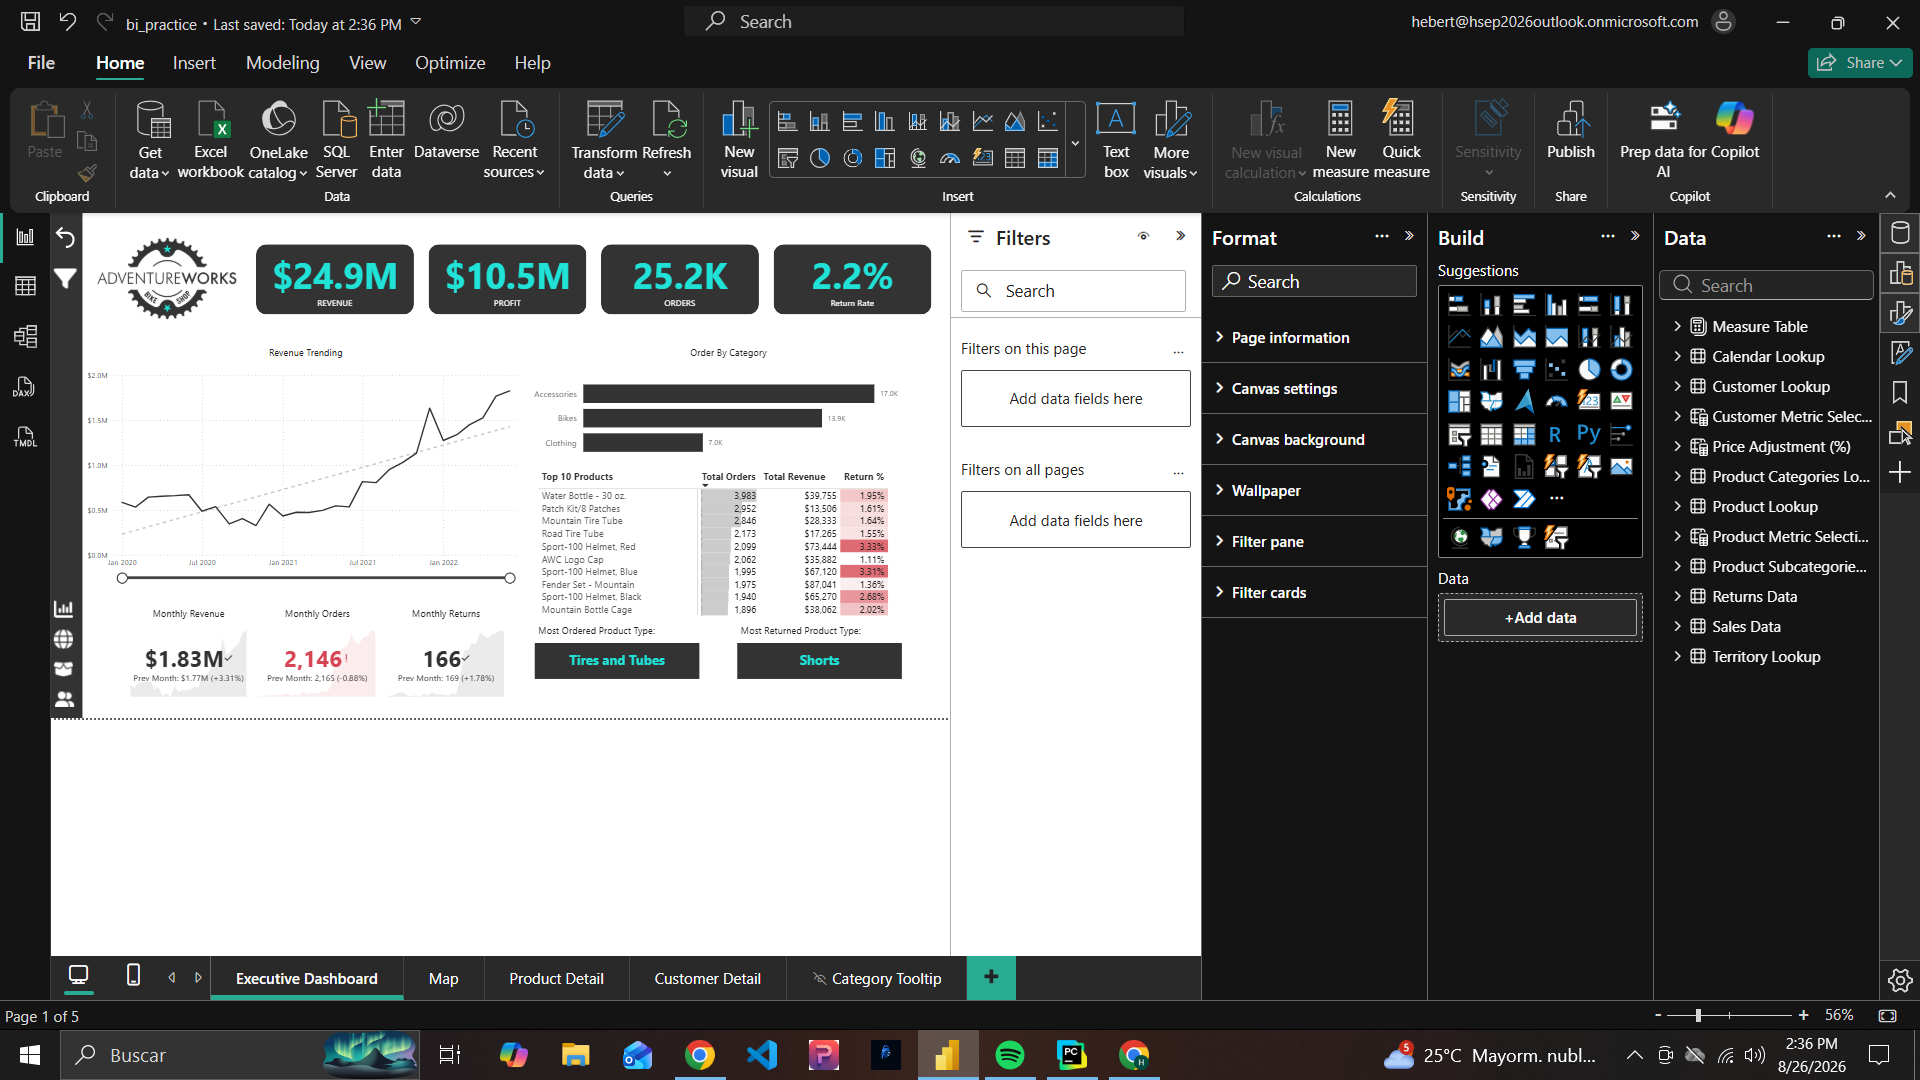

The page's visual inventory and layout, read from the dashboard file:
{"tool":"powerbi","page":{"name":"Executive Dashboard","canvas":[1280,720],"ordinal":0},"visuals":[{"type":"card","fields":{"Values":["Measure Table.Total Revenue"]},"box":[282.5,18.8,243,150],"z":0,"group":"g2"},{"type":"image","title":"AW Logo","box":[45,21.2,242.5,143.8],"z":0},{"type":"group","id":"g1","title":"KPI Background","box":[291.3,43.8,961.2,100],"z":0,"group":"g3"},{"type":"shape","box":[291.3,43.8,225,100],"z":0,"group":"g1"},{"type":"actionButton","box":[0,588.9,44.5,35.6],"z":0,"group":"g4"},{"type":"shape","title":"Left Nav Background","box":[0,0,45,720],"z":1000},{"type":"group","id":"g2","title":"KPI Values","box":[282.5,18.8,979.2,150],"z":1000,"group":"g3"},{"type":"card","fields":{"Values":["Measure Table.Total Profit"]},"box":[527.9,18.8,243,150],"z":1000,"group":"g2"},{"type":"shape","box":[536.7,43.8,225,100],"z":1000,"group":"g1"},{"type":"actionButton","box":[0,546,44.5,35.6],"z":1000,"group":"g4"},{"type":"group","id":"g3","title":"KPIs","box":[282.5,18.8,979.2,150],"z":2000},{"type":"card","fields":{"Values":["Measure Table.Total Orders"]},"box":[773.3,18.8,243,150],"z":2000,"group":"g2"},{"type":"shape","box":[782.1,43.8,225,100],"z":2000,"group":"g1"},{"type":"actionButton","box":[0,631.9,44.5,35.6],"z":2000,"group":"g4"},{"type":"card","fields":{"Values":["Measure Table.Return Rate"]},"box":[1018.7,18.8,243,150],"z":3000,"group":"g2"},{"type":"shape","box":[1027.5,43.8,225,100],"z":3000,"group":"g1"},{"type":"lineChart","title":"Revenue Trending","fields":{"Category":["Calendar Lookup.Year","Calendar Lookup.Start of Quarter","Calendar Lookup.Start of Month"],"Y":["Measure Table.Total Revenue"]},"box":[45.5,189.2,633,342],"z":3000},{"type":"actionButton","box":[1.4,674.8,41.7,35.6],"z":3000,"group":"g4"},{"type":"kpi","title":"Monthly Revenue","fields":{"Goal":["Measure Table.Previous Month Revenue"],"Indicator":["Measure Table.Total Revenue"],"TrendLine":["Calendar Lookup.Start of Month"]},"box":[108.1,560.4,175,133],"z":4000},{"type":"kpi","title":"Monthly Orders","fields":{"Goal":["Measure Table.Previous Month Orders"],"Indicator":["Measure Table.Total Orders"],"TrendLine":["Calendar Lookup.Start of Month"]},"box":[291.6,560.4,175,133],"z":5000},{"type":"kpi","title":"Monthly Returns","fields":{"Goal":["Measure Table.Previous Month Returns"],"Indicator":["Measure Table.Total Returns"],"TrendLine":["Calendar Lookup.Start of Month"]},"box":[475,560.4,175,133],"z":6000},{"type":"clusteredBarChart","title":"Order By Category","fields":{"Category":["Product Categories Lookup.CategoryName"],"Y":["Measure Table.Total Orders"]},"box":[678.5,189,573,171.8],"z":7000},{"type":"pivotTable","fields":{"Rows":["Product Lookup.ProductName"],"Values":["Measure Table.Total Orders","Measure Table.Total Revenue","Measure Table.Return Rate"]},"box":[688.3,360.7,591.4,230.7],"z":8000},{"type":"card","fields":{"Values":["Min(Product Subcategories Lookup.SubcategoryName)"]},"box":[688.4,611.6,234.7,51.2],"z":9000},{"type":"textbox","box":[688.4,580.3,184.9,31.3],"z":10000},{"type":"card","fields":{"Values":["Min(Product Subcategories Lookup.SubcategoryName)"]},"box":[977.1,611.6,234.7,51.2],"z":11000},{"type":"textbox","box":[977.1,580.3,184.9,31.3],"z":12000},{"type":"actionButton","box":[0,13.5,45.4,40.5],"z":13000},{"type":"group","id":"g4","title":"Navigation Buttons","box":[0,546,44.5,164.4],"z":14000},{"type":"actionButton","box":[0,72.4,42.9,40.5],"z":15000}]}

Visuals, with their boxes on the page's 1280x720 design canvas (x1, y1, x2, y2). These are canvas units, not pixel positions in the 1920x1080 screenshot, which may show the page scaled, cropped or inside an application window:
card - Measure Table.Total Revenue: 282:19:526:169
"AW Logo" image: 45:21:288:165
"KPI Background" group: 291:44:1252:144
shape: 291:44:516:144
actionButton: 0:589:44:624
"Left Nav Background" shape: 0:0:45:720
"KPI Values" group: 282:19:1262:169
card - Measure Table.Total Profit: 528:19:771:169
shape: 537:44:762:144
actionButton: 0:546:44:582
"KPIs" group: 282:19:1262:169
card - Measure Table.Total Orders: 773:19:1016:169
shape: 782:44:1007:144
actionButton: 0:632:44:668
card - Measure Table.Return Rate: 1019:19:1262:169
shape: 1028:44:1252:144
"Revenue Trending" lineChart: 46:189:678:531
actionButton: 1:675:43:710
"Monthly Revenue" kpi: 108:560:283:693
"Monthly Orders" kpi: 292:560:467:693
"Monthly Returns" kpi: 475:560:650:693
"Order By Category" clusteredBarChart: 678:189:1252:361
pivotTable - Product Lookup.ProductName x Measure Table.Total Orders: 688:361:1280:591
card - Min(Product Subcategories Lookup.SubcategoryName): 688:612:923:663
textbox: 688:580:873:612
card - Min(Product Subcategories Lookup.SubcategoryName): 977:612:1212:663
textbox: 977:580:1162:612
actionButton: 0:14:45:54
"Navigation Buttons" group: 0:546:44:710
actionButton: 0:72:43:113
